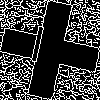I: (25, 25, 48, 73)
